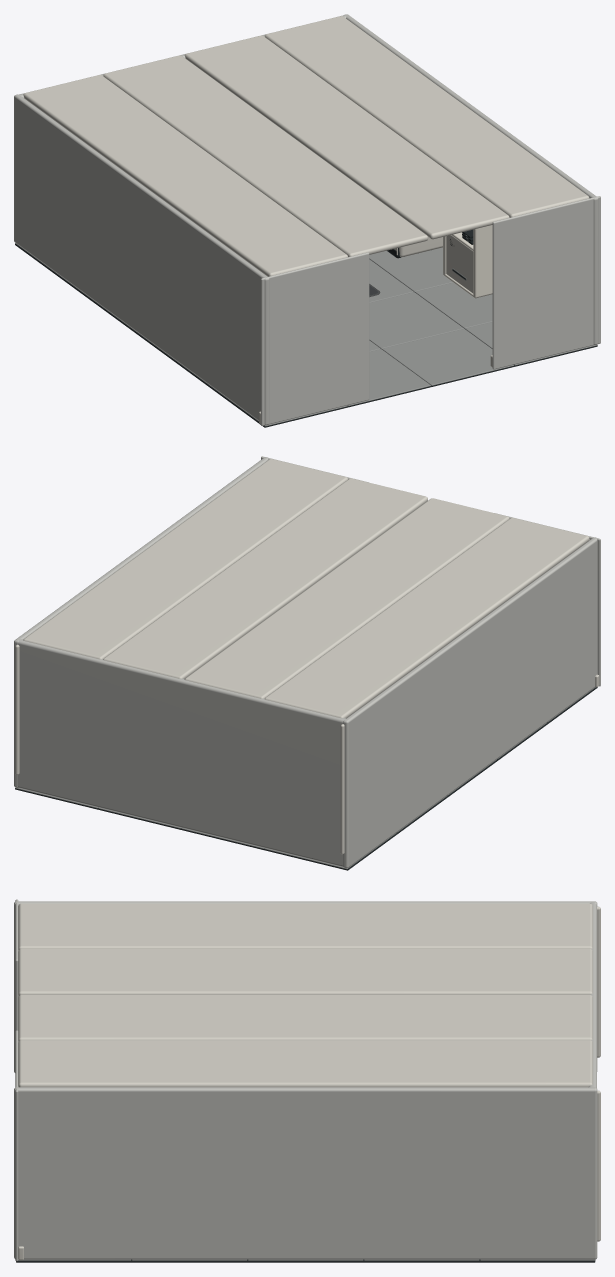
File: bedroom.glb
3 views of the same model, one above another, from view 1: azimuth 30°, elevation 25°; view 2: azimuth 150°, elevation 25°; view 3: azimuth 270°, elevation 25° (orthographic). The views are drawn at different scales.
Visible parts, largest first — view 1: Bedroom baked interior; view 2: Bedroom baked interior; view 3: Bedroom baked interior.
Part boxes in pixels (x1,y1,x2,y2): Bedroom baked interior: (14,14,600,427); Bedroom baked interior: (14,456,600,870); Bedroom baked interior: (14,899,600,1262).
Size of the model in its own units: 7.83 by 3.34 by 10.11.
Materials: 24 (9 with a texture image).
